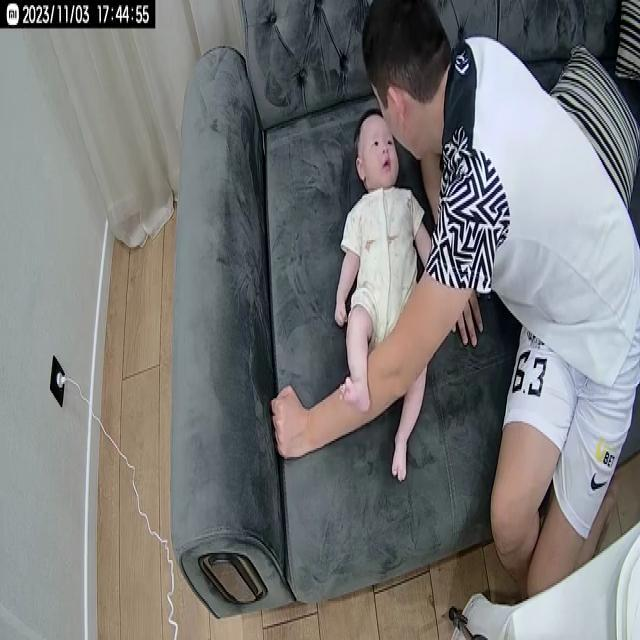baby: (332, 109, 435, 488)
